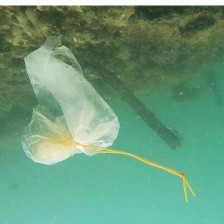plastic_bag: (14, 32, 119, 168)
